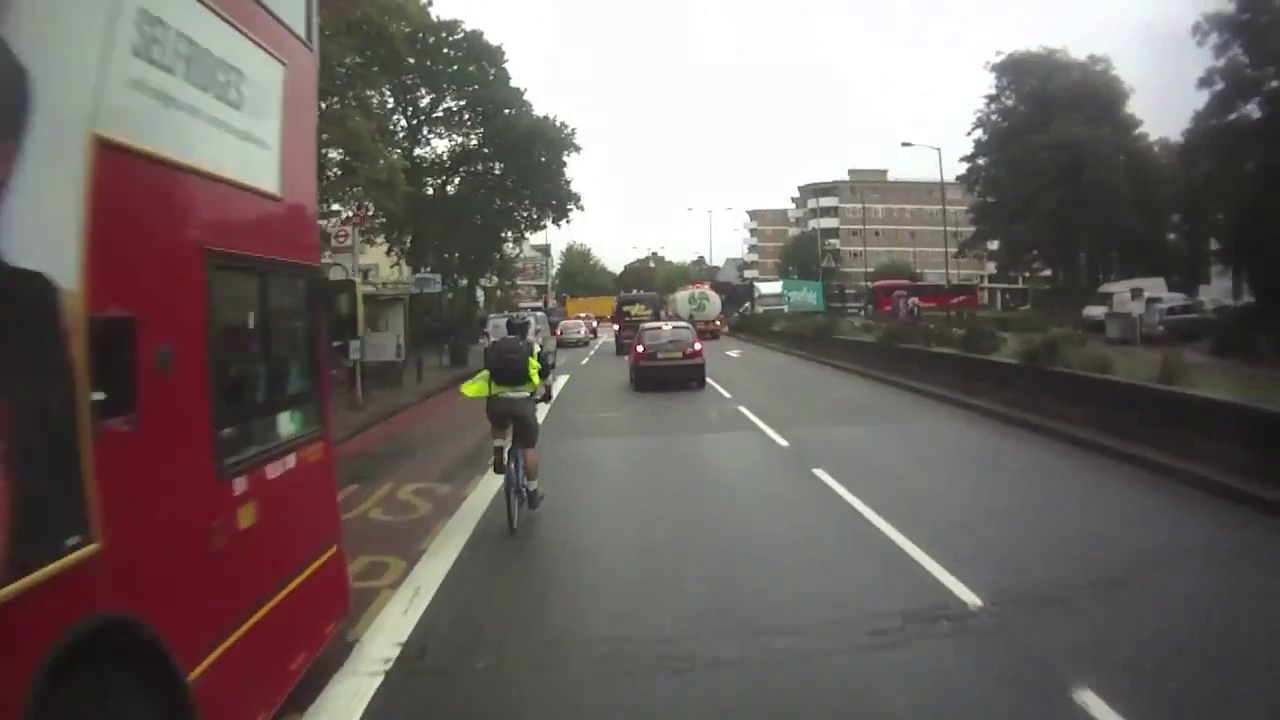cyclist_back: (463, 311, 551, 531)
